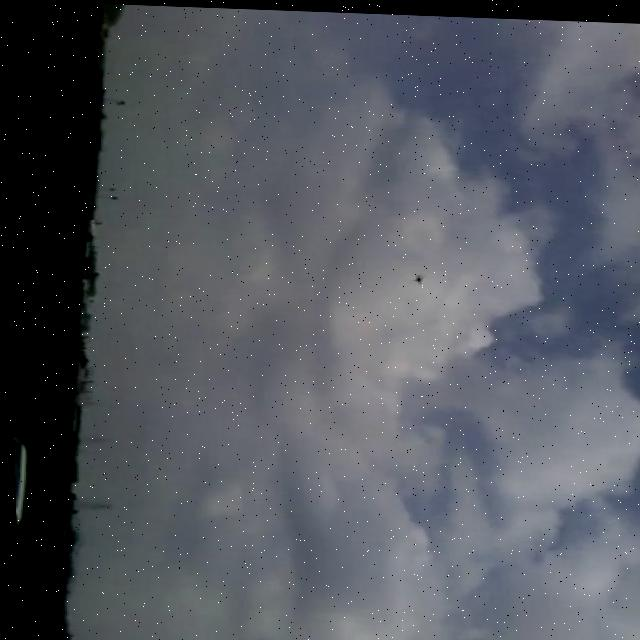drone: (407, 268, 429, 284)
